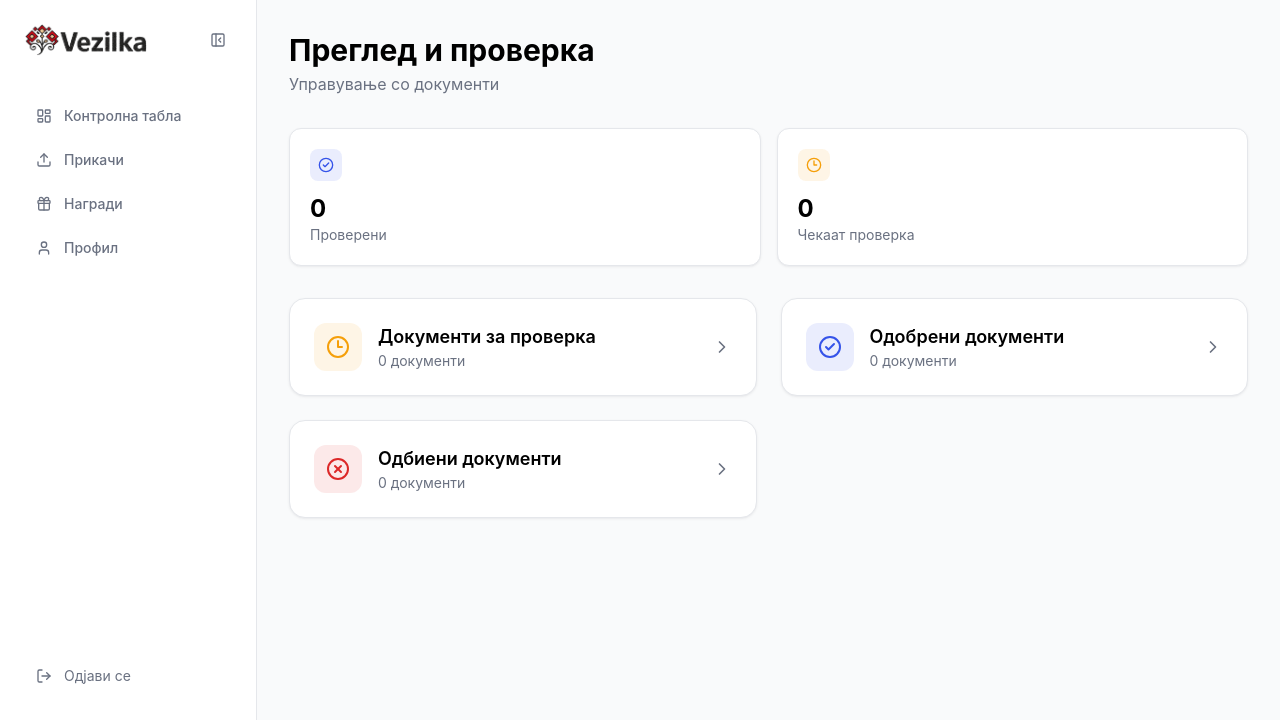
it: AdminPage › opens rejected documents section
The image size is (1280, 720).
Click the button "Одбиени документи 0 документи".
click(523, 469)  # box [289,420,756,518]
(page scrolled)
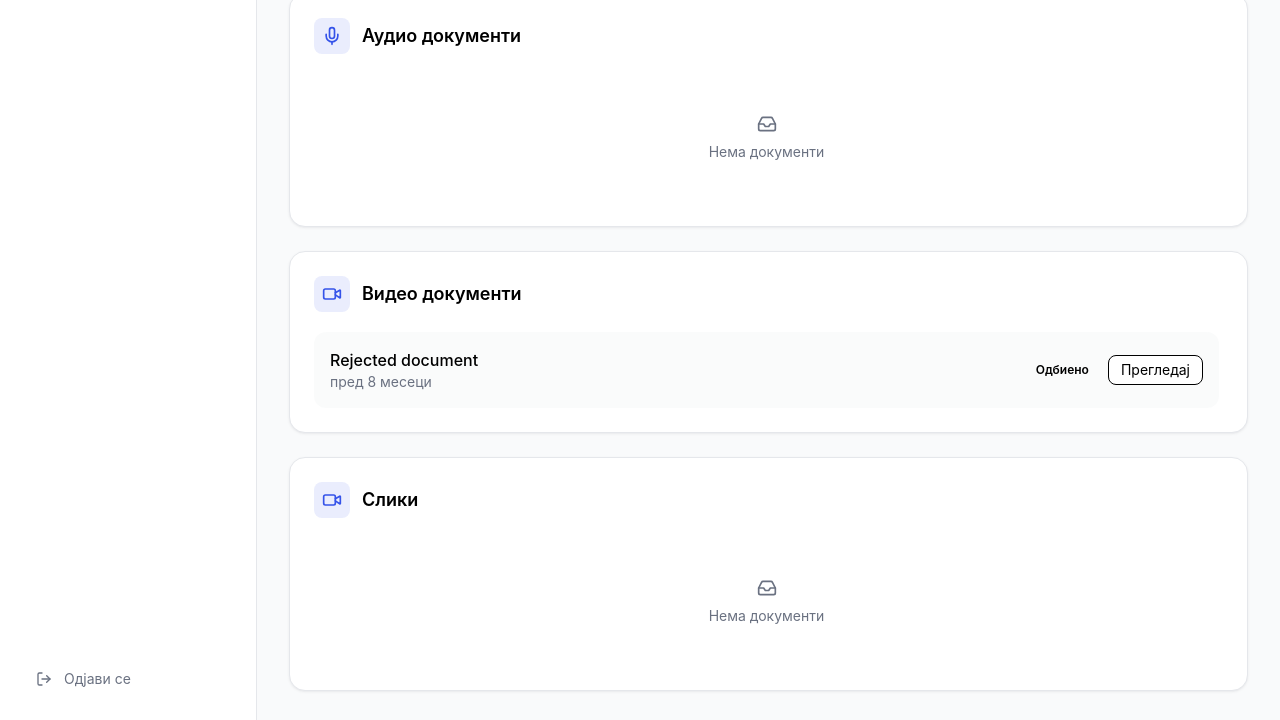
Expected: the heading "Rejected document" is shown, [330,348,478,372]
